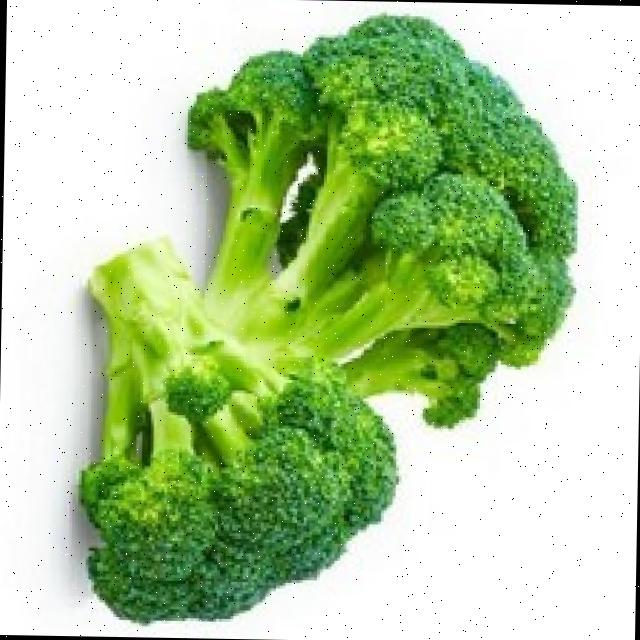Broccoli: (80, 16, 574, 622), (81, 16, 574, 622)
